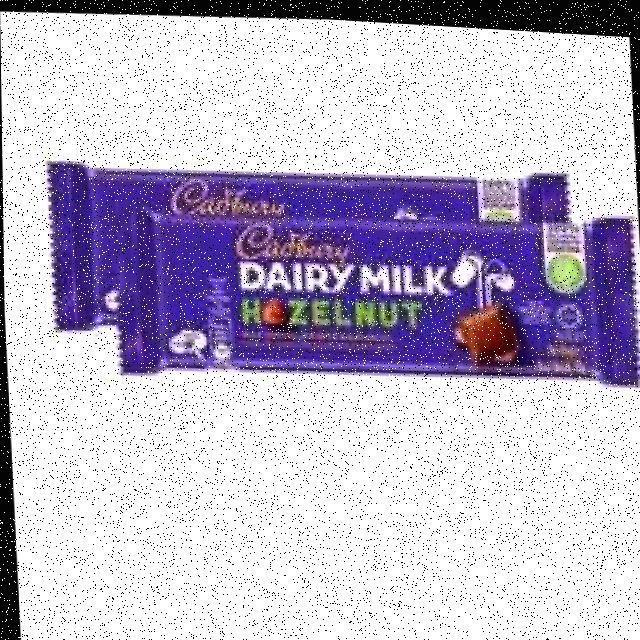cadbury_chocolate: (48, 158, 577, 382), (142, 220, 630, 385)
